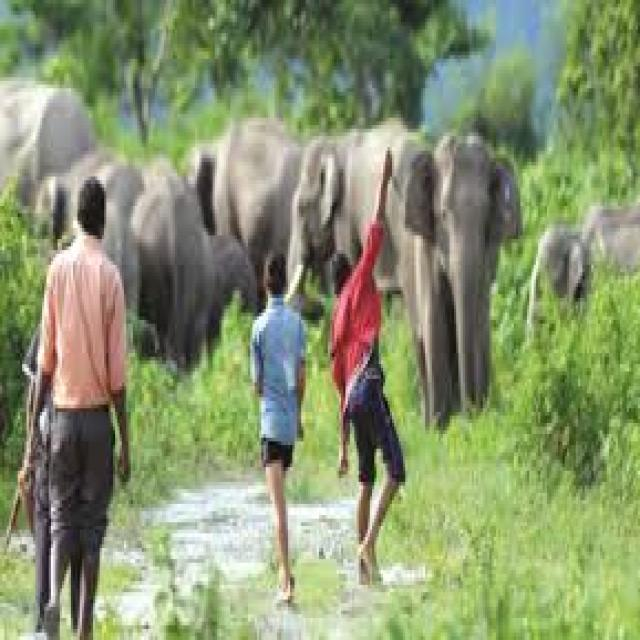Elephant: (392, 124, 520, 432), (284, 116, 412, 310), (527, 195, 640, 324)
